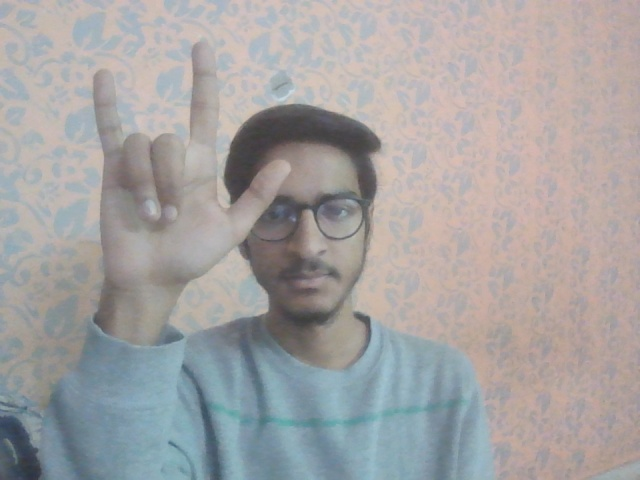ILoveYou: (89, 41, 295, 291)
